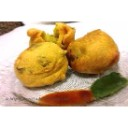bonda: (12, 42, 66, 86), (69, 29, 120, 72)
